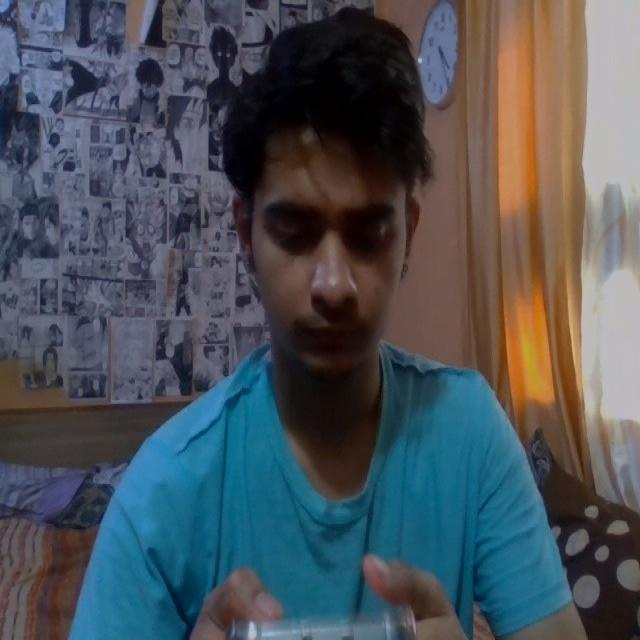phone: (224, 615, 424, 640)
using-phone: (51, 9, 598, 640)
